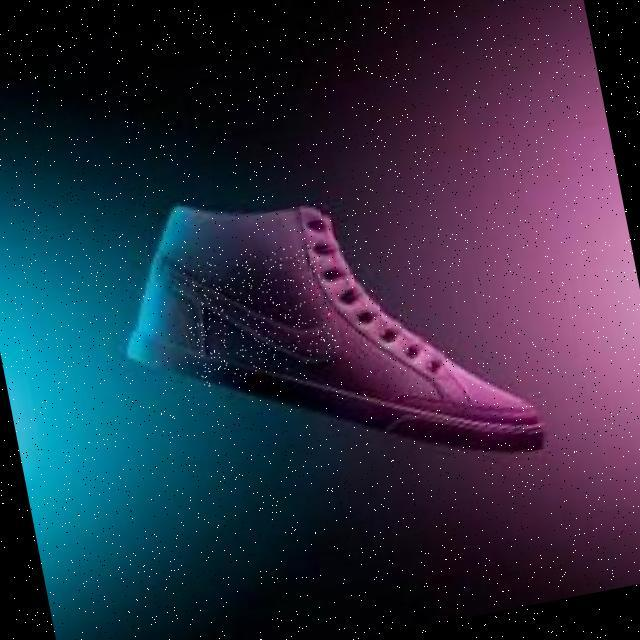Nike: (176, 242, 341, 389)
